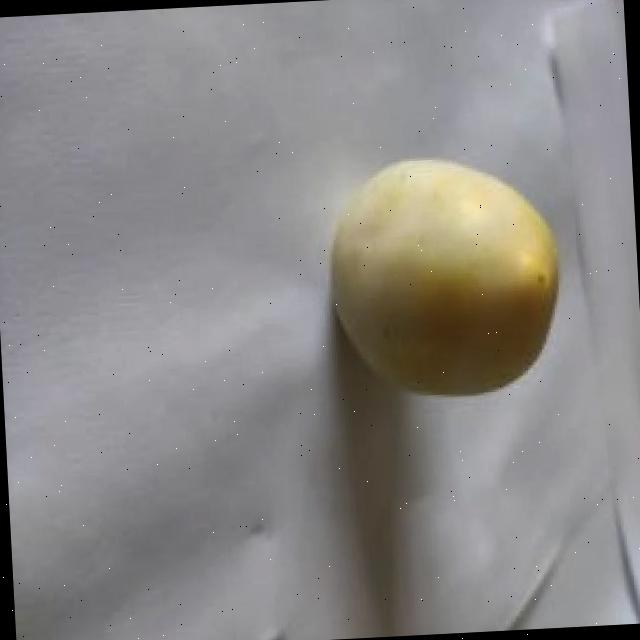tomato: (331, 153, 564, 399)
